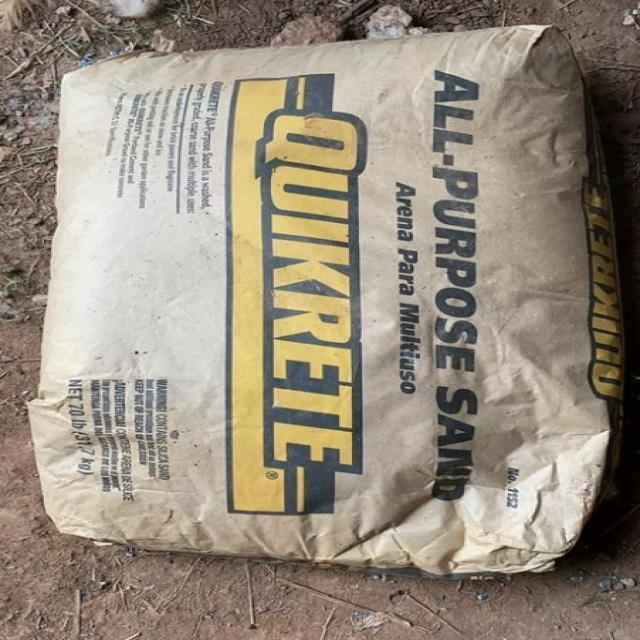KantongSemen: (25, 23, 626, 577)
